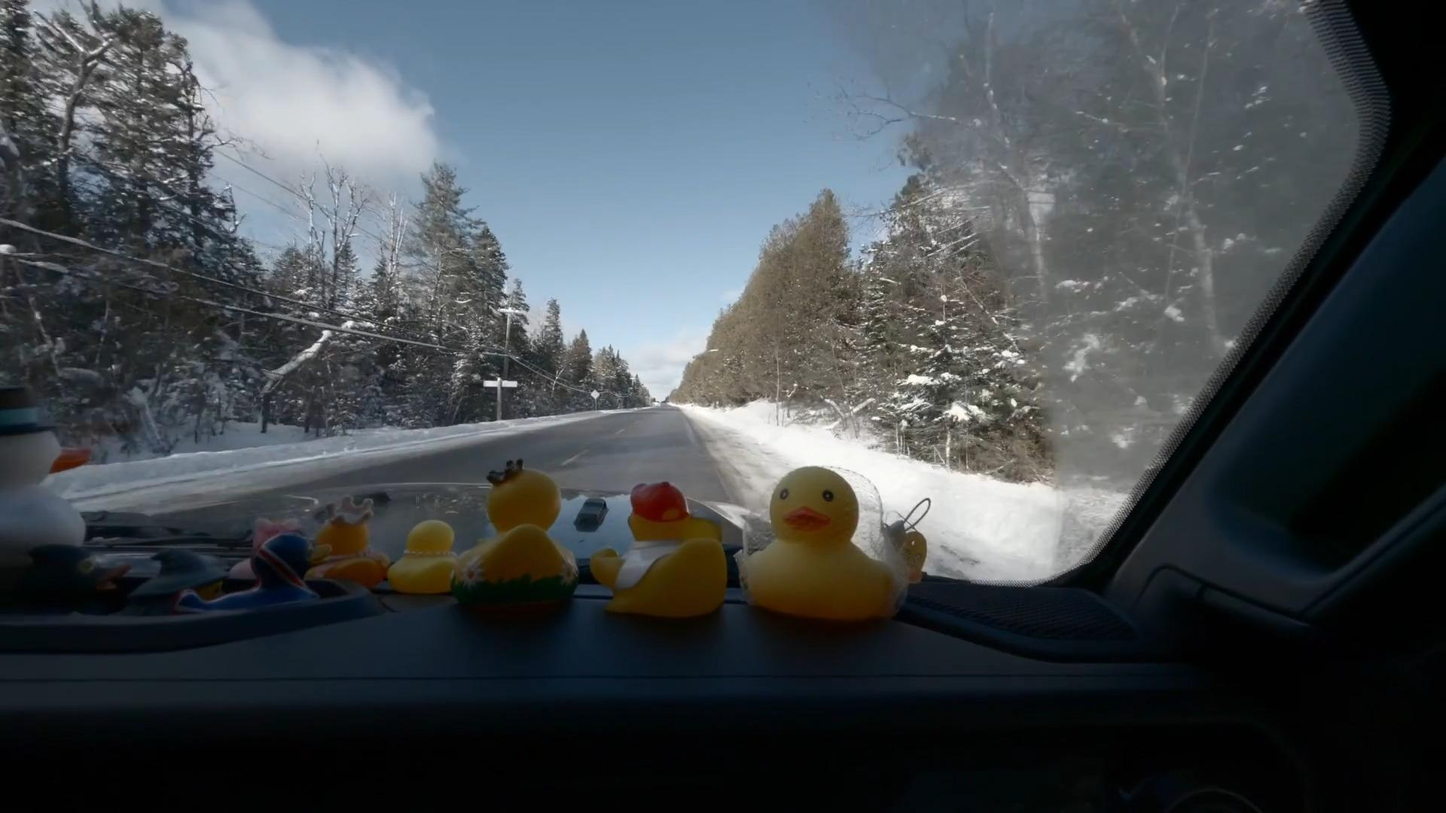Snow: (681, 400, 1115, 582), (66, 408, 642, 512)
dry: (114, 406, 741, 516)
